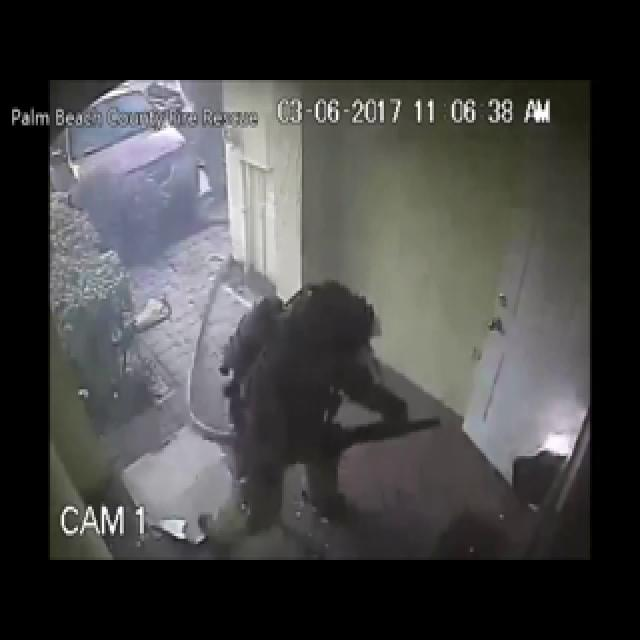explosion: (73, 103, 314, 516)
